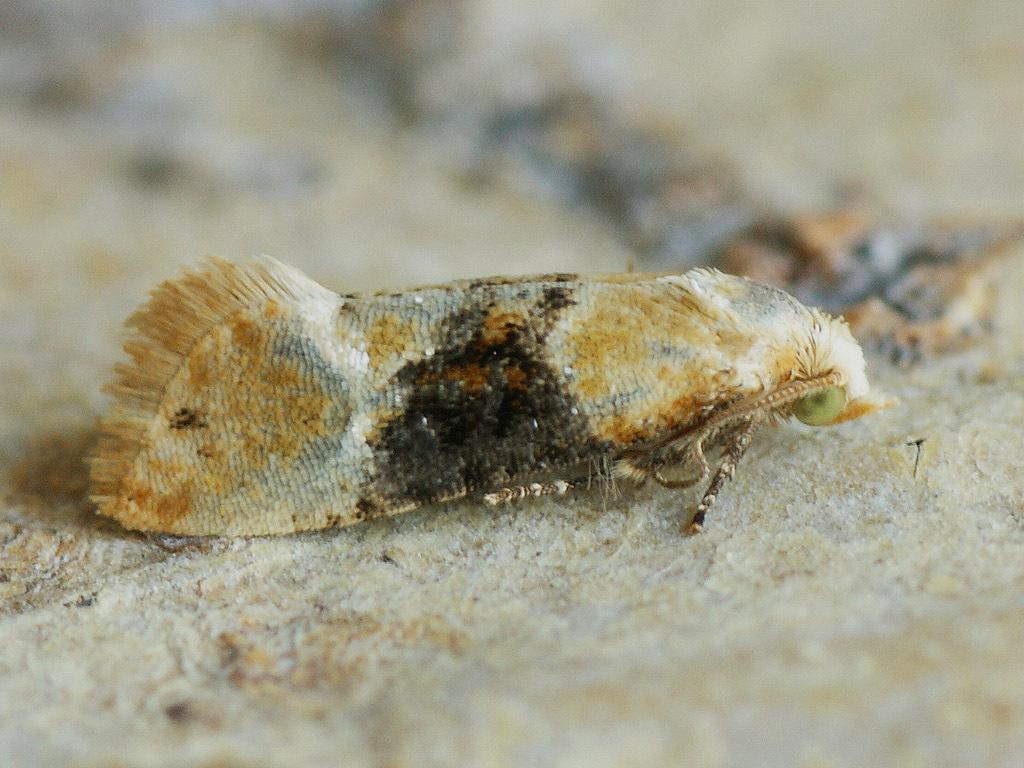Eupoecilia Ambiguella: (80, 246, 886, 545)
